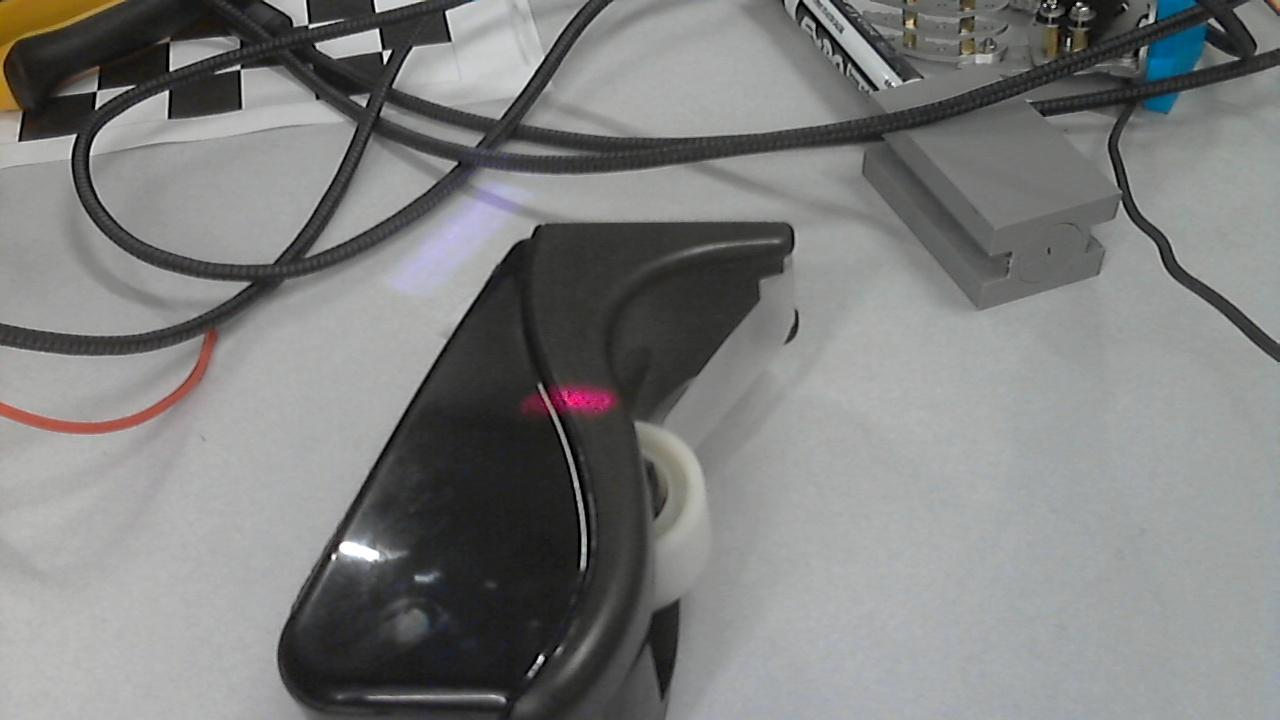Object desktop tape dispenser - Material plastic - Pdfname 8pMd29OsIRjD: (519, 361, 630, 447)
